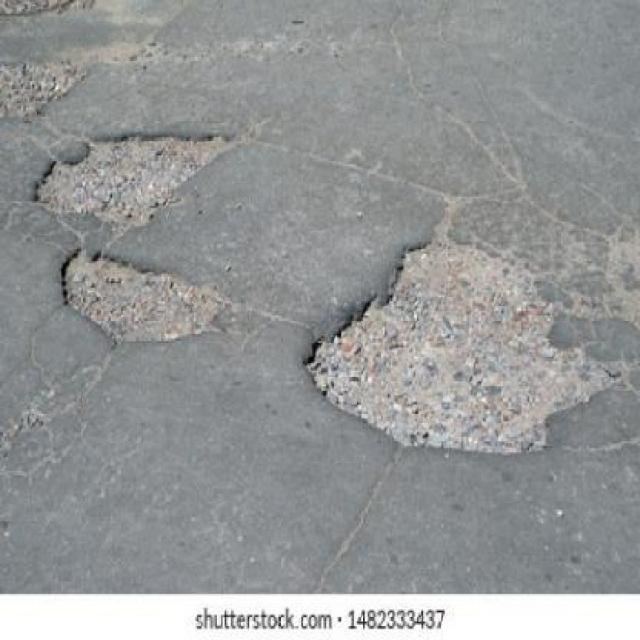Pothole: (302, 230, 612, 458), (31, 132, 232, 238), (60, 248, 228, 346), (0, 52, 92, 119)
